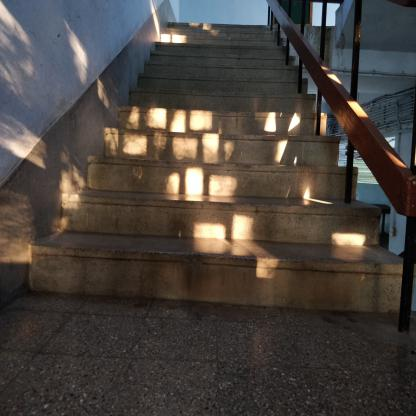stairs: (109, 141, 339, 330)
